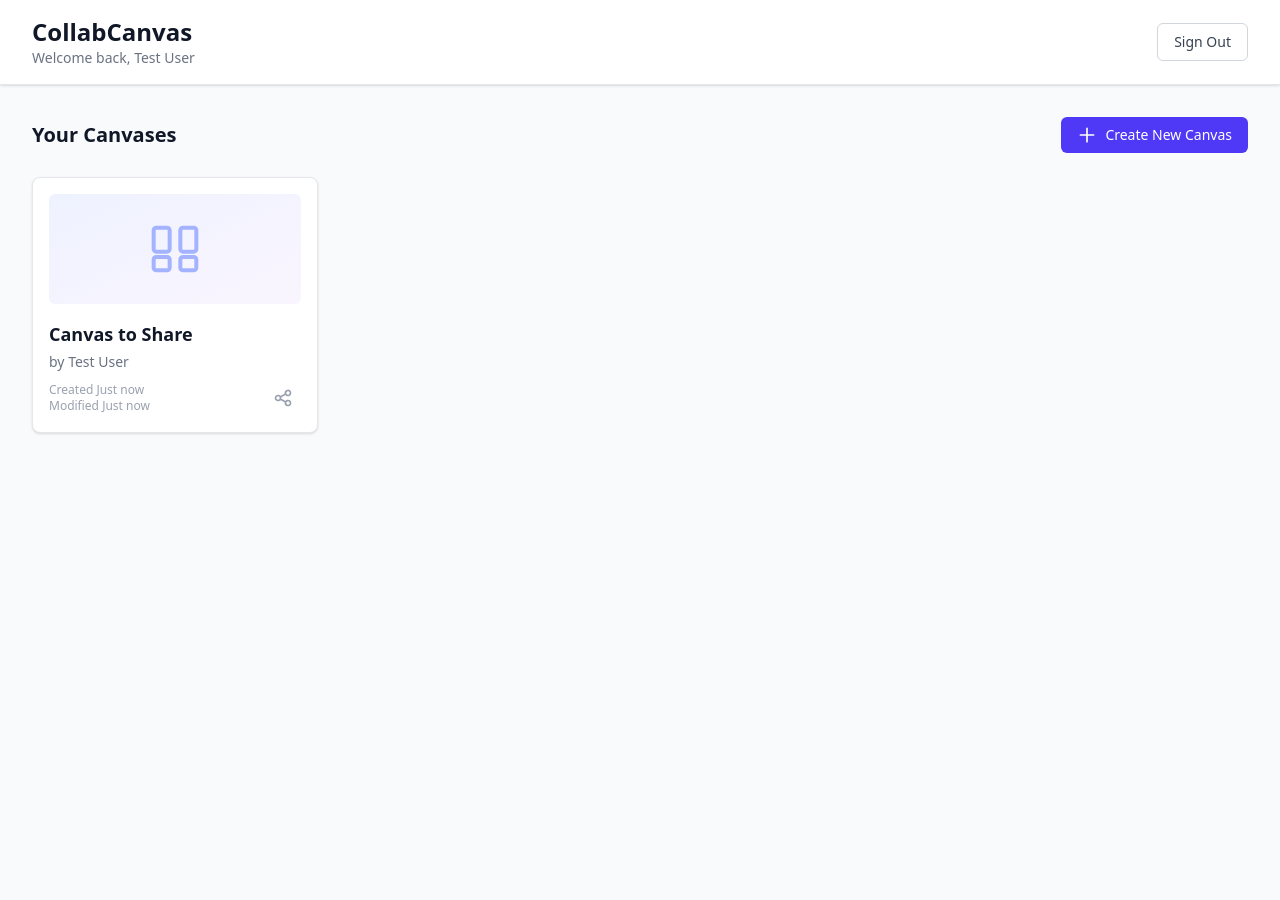
Test: Dashboard Flow Integration Tests › should open share modal when clicking share button
expect the heading "Canvas to Share" is shown: met, box 49,322 -> 193,346
Note: Click share button (not the card itself)
Click the button named "share canvas to share".
click(283, 398)  # box 265,380 -> 301,416
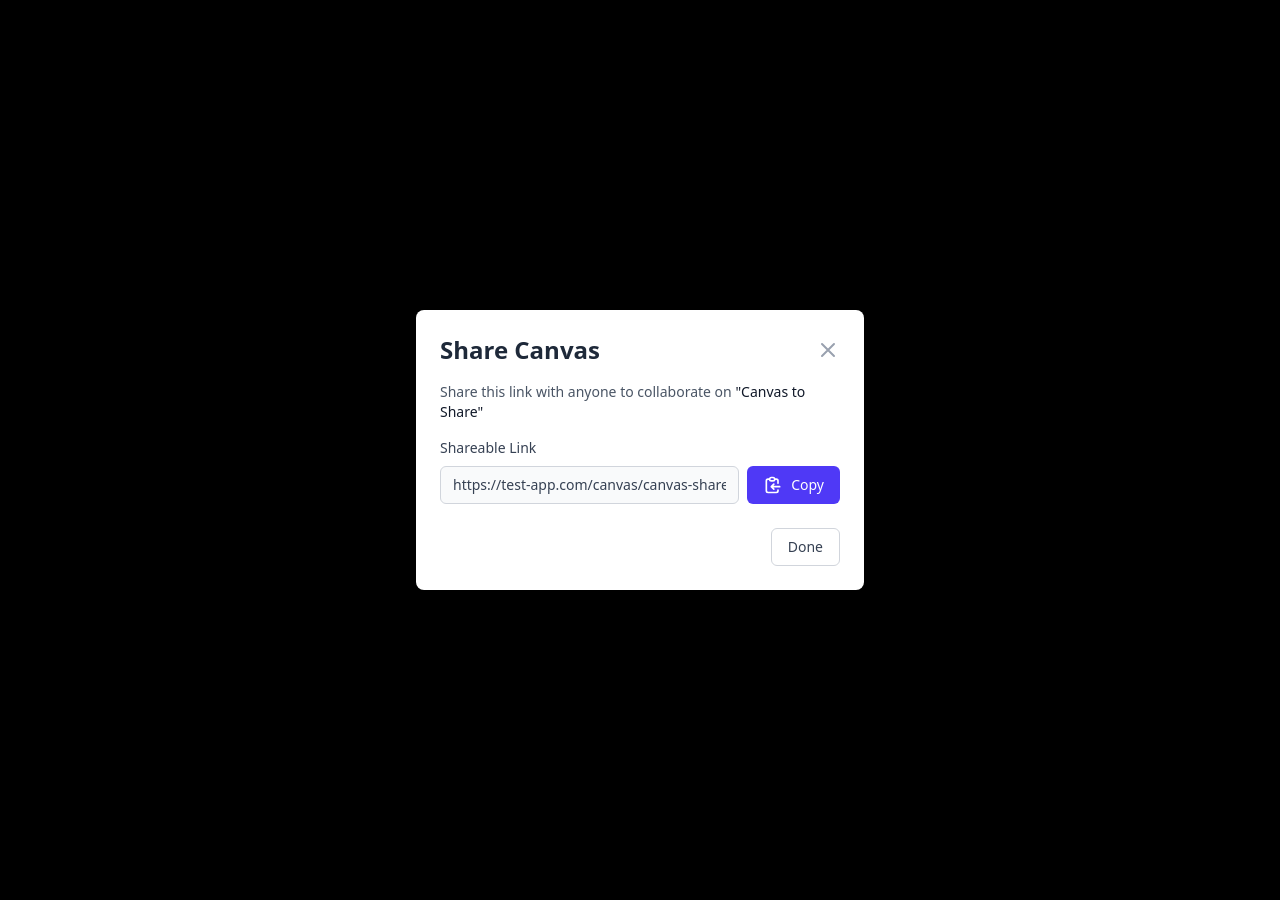
expect the dialog "Share Canvas" is shown: met
expect the text "Share this link with anyone" is shown: met, box 440,382 -> 732,401
